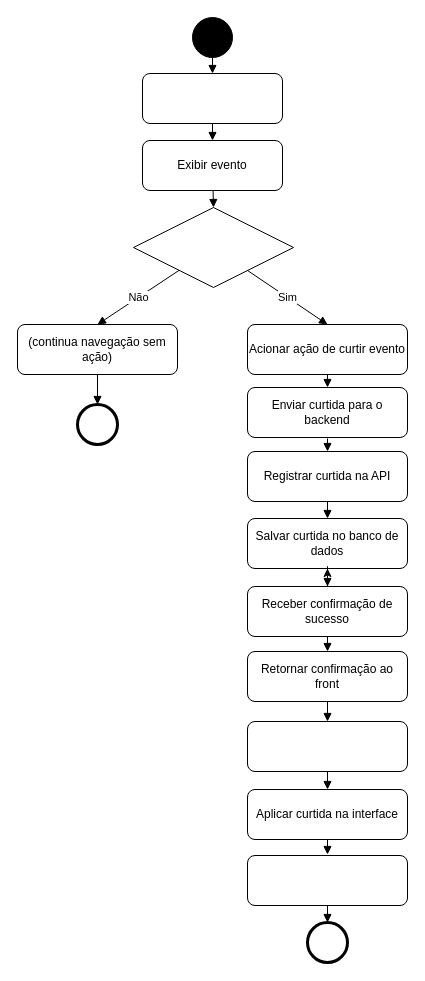
Some shapes in this 425 by 981 pixel diagram are drawn without their labels. Here are the shapes that lost their labels. From the top down, the centre of each, then its label:
At pixel 212 98: "Visualizar evento".
At pixel 213 247: "Usuário deseja curtir evento?".
At pixel 327 746: "Atualizar contador de curtidas".
At pixel 327 880: "Exibir curtida atualizada".
